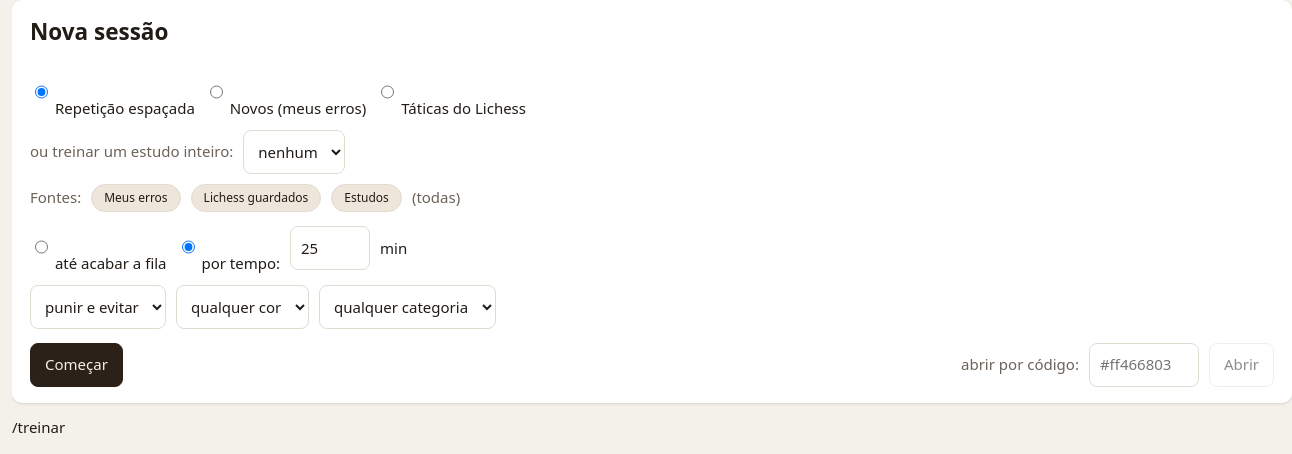
Scenario: abrir por código leva ao exercício, com ou sem o # na frente
The width and height of the screenshot is (1292, 454).
Expected: the button "Abrir" is disabled, [1209,343,1274,387]
Type " #ff466803 " into the field named "Código do exercício". click: (1144, 365)
box: [1089,343,1199,387]
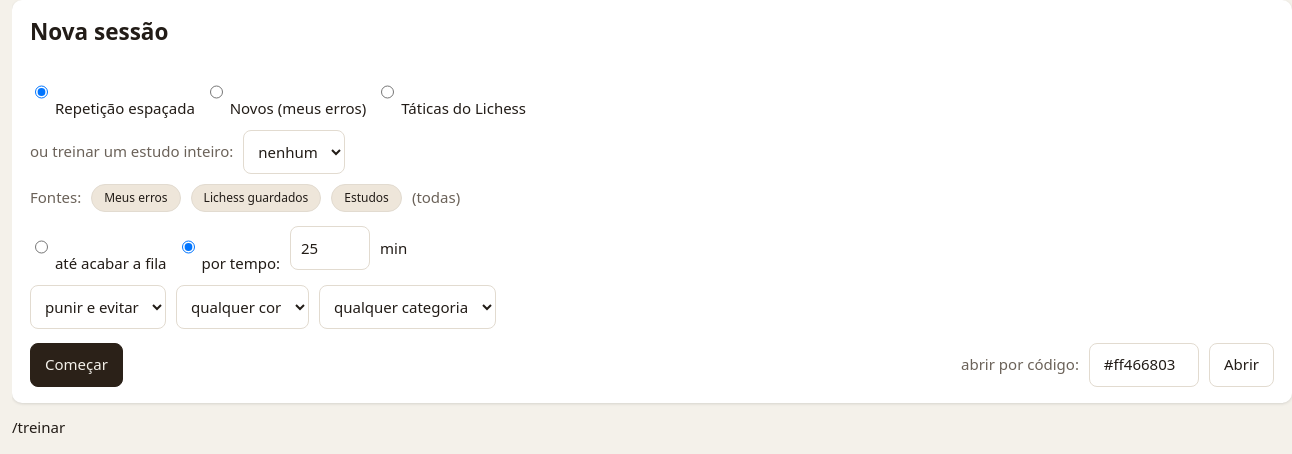
Click the button "Abrir". click: (1241, 365)
box: [1209,343,1274,387]
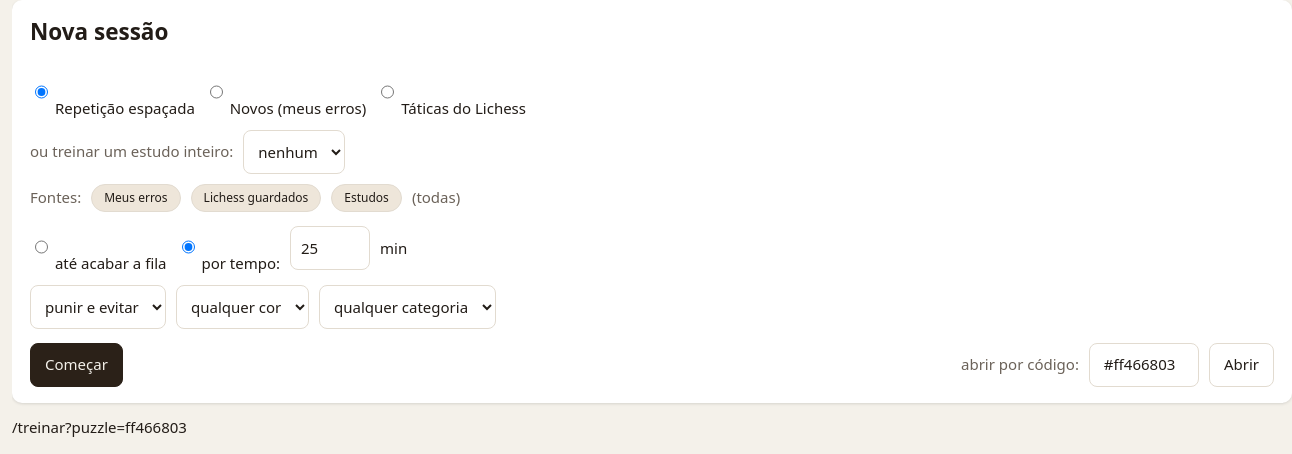
Expected: the text with test id "where" reads "/treinar?puzzle=ff466803", [12,417,187,437]
